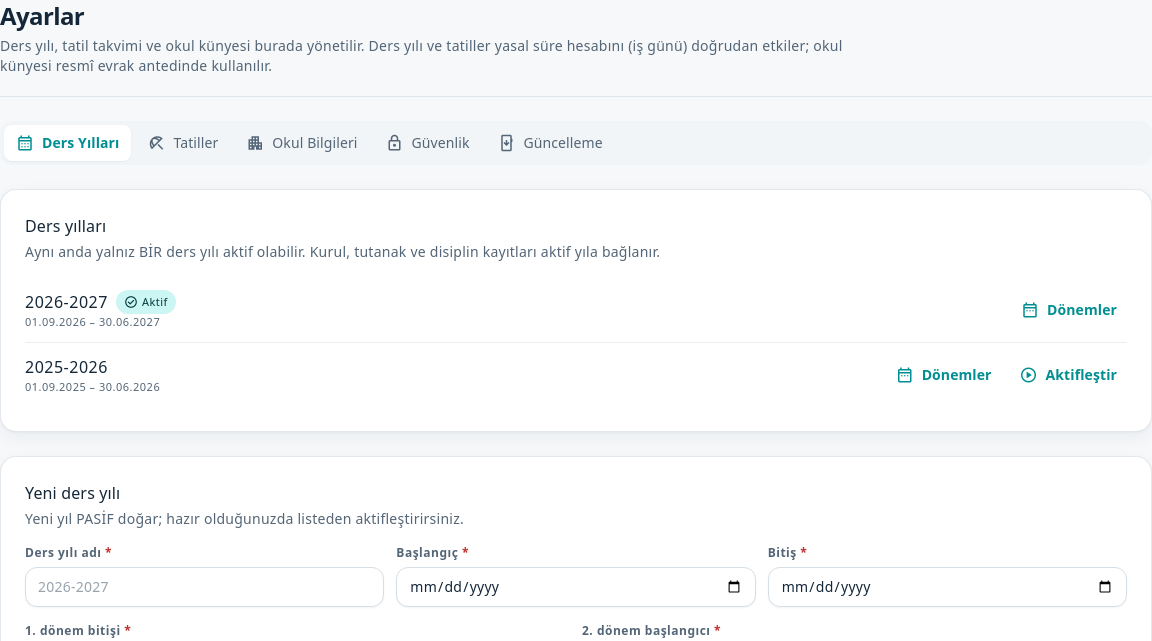
Test case: AyarlarPage — tatiller › resmî tatil yükleme sonucu created/skipped olarak gösterilir
The image size is (1152, 641).
Expected: the text "2026-2027" is shown, left=25, top=291, right=108, bottom=313
Click the tab "Tatiller" at (183, 143), box left=135, top=125, right=230, bottom=161
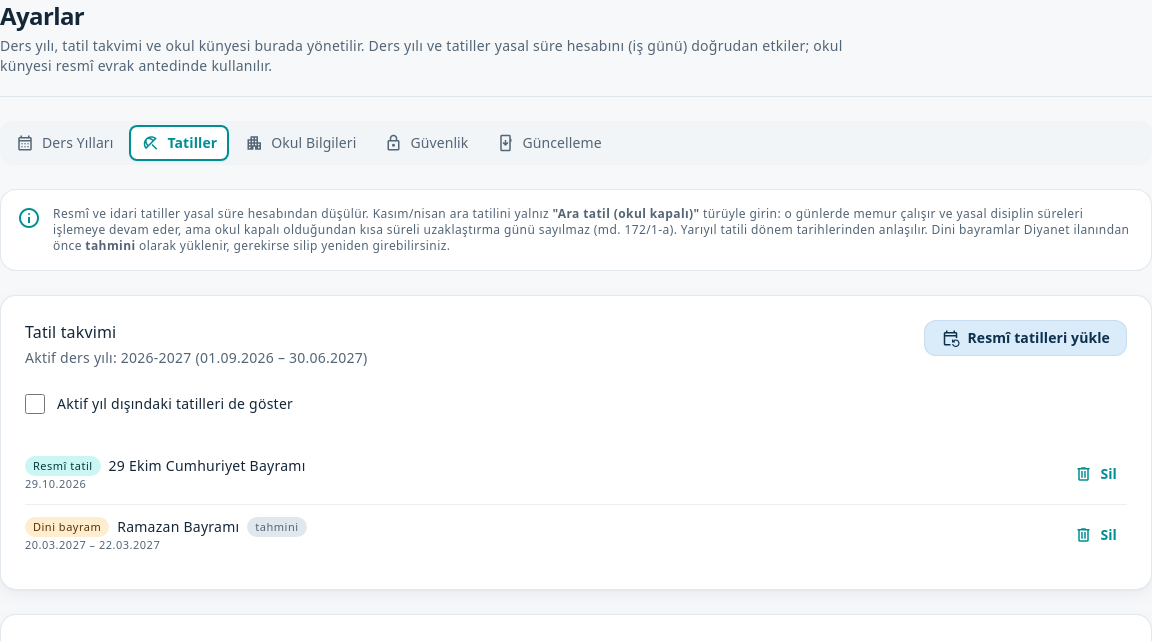
Result: the text "29 Ekim Cumhuriyet Bayramı" is shown at left=109, top=456, right=306, bottom=475
Click the button "Resmî tatilleri yükle" at (1026, 338), box left=924, top=320, right=1127, bottom=356
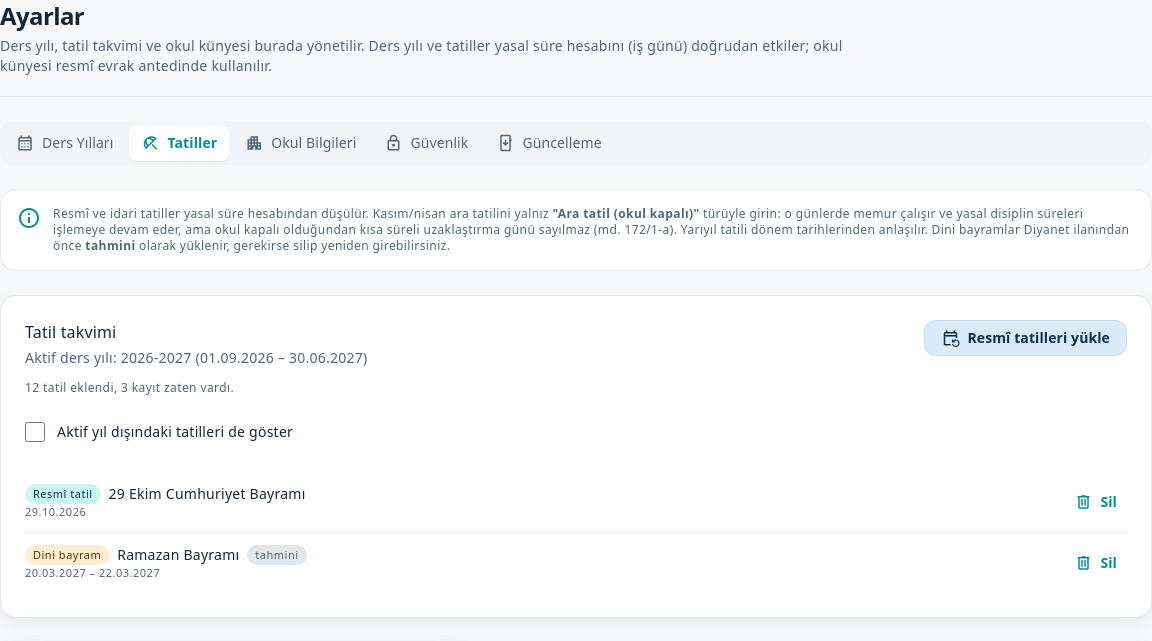
Result: the text "12 tatil eklendi, 3 kayıt zaten vardı." is shown at left=25, top=379, right=234, bottom=396
